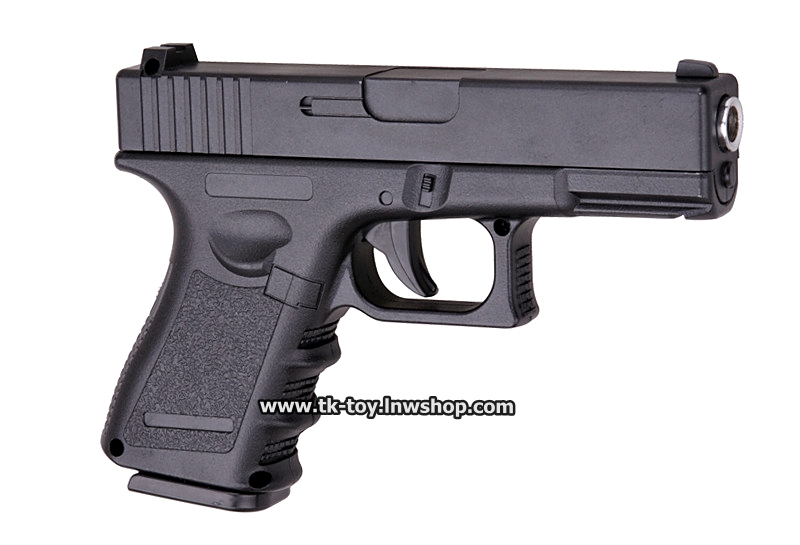gun: (91, 28, 752, 516)
